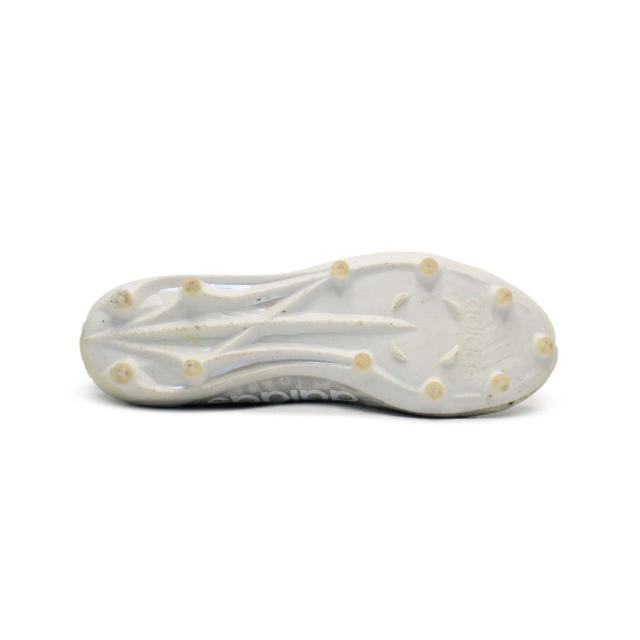outersole: (80, 252, 561, 412)
